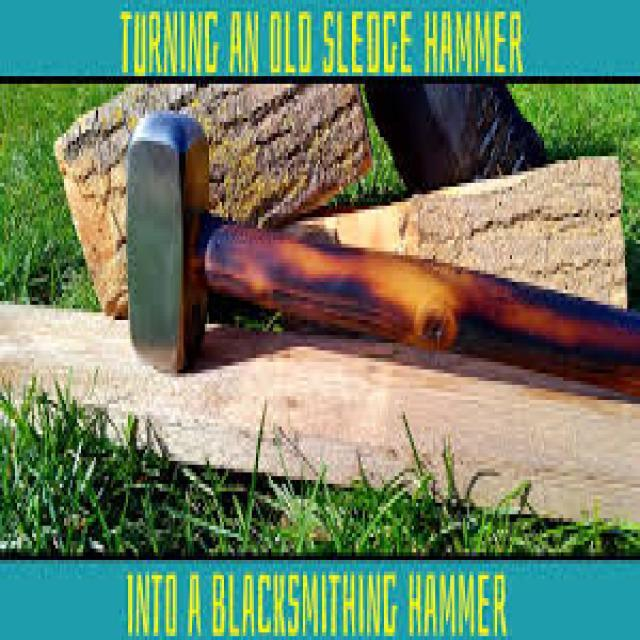hammer: (109, 101, 640, 406)
